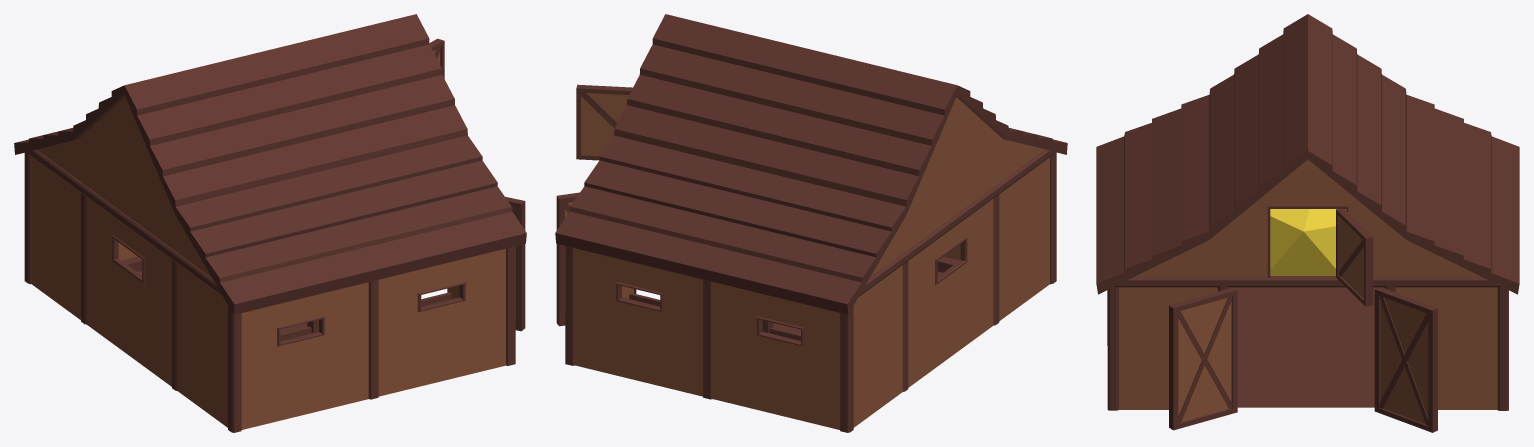
Rendered from cow_house.fbx.
3 views of the same model, side by side, from view 1: azimuth 30°, elevation 25°; view 2: azimuth 150°, elevation 25°; view 3: azimuth 270°, elevation 25° (orthographic). The views are drawn at different scales.
Parts seen in each view (by area): view 1: cow_hause, goal_left; view 2: cow_hause, roof_dore, goal_right; view 3: cow_hause, goal_left, goal_right, roof_dore.
Boxes of the visible parts, <box> form: cow_hause: <box>14,14,526,432</box>; goal_left: <box>505,197,525,331</box>; cow_hause: <box>555,14,1067,432</box>; roof_dore: <box>576,84,632,160</box>; goal_right: <box>556,192,579,326</box>; cow_hause: <box>1096,14,1519,410</box>; goal_left: <box>1169,287,1237,430</box>; goal_right: <box>1374,287,1437,432</box>; roof_dore: <box>1336,209,1373,306</box>.
Bounding box in the file's own units: 374 × 278 × 408.
